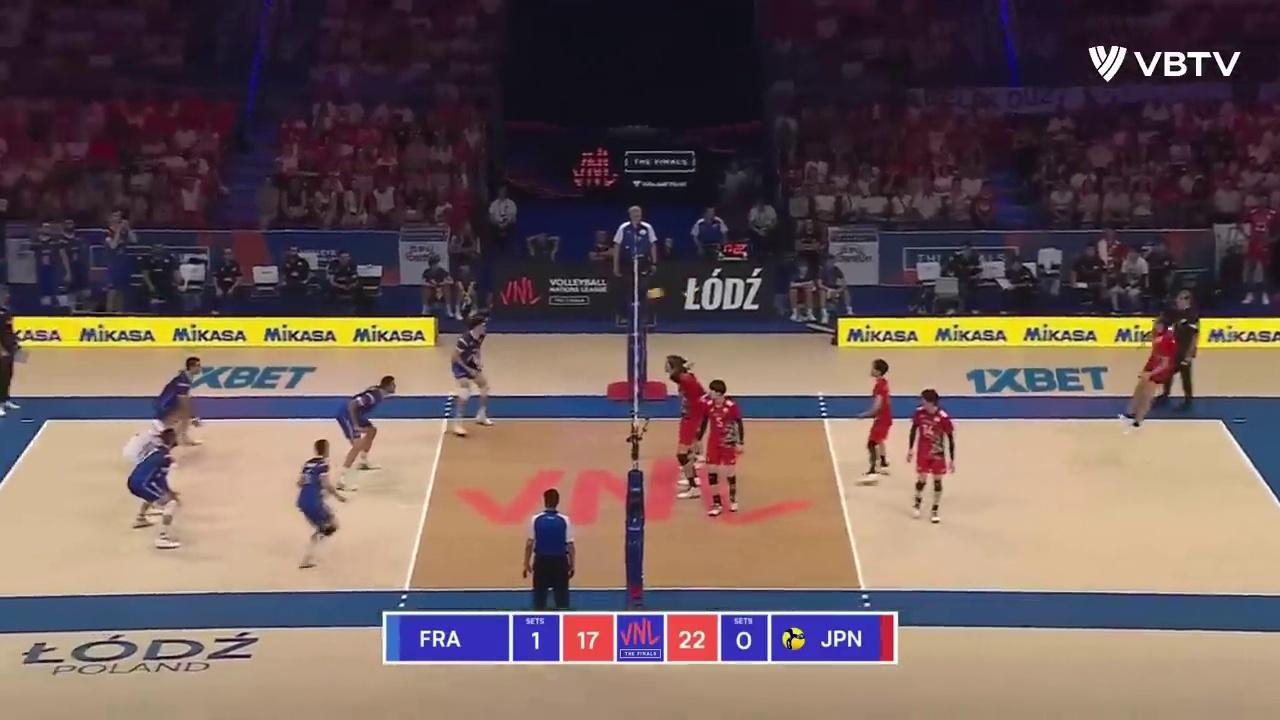ball: (646, 288, 663, 300)
